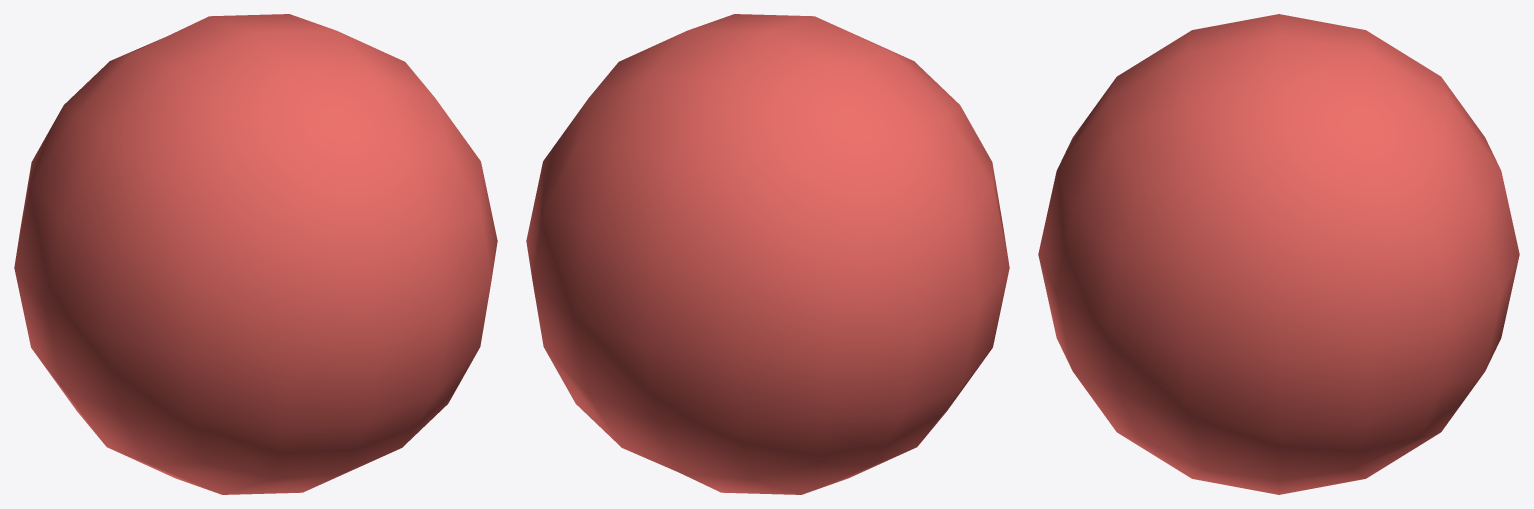
File: food_mesh.glb
3 renders of one model, left to right at view 1: azimuth 30°, elevation 25°; view 2: azimuth 150°, elevation 25°; view 3: azimuth 270°, elevation 25°, orthographic.
Parts seen in each view (by area): view 1: food_mesh; view 2: food_mesh; view 3: food_mesh.
Part boxes in pixels (x1=…): food_mesh: x1=14, y1=14, x2=497, y2=494; food_mesh: x1=526, y1=14, x2=1009, y2=494; food_mesh: x1=1038, y1=14, x2=1519, y2=494.
Size of the model in its own units: 0.4434 by 0.4434 by 0.4434.
